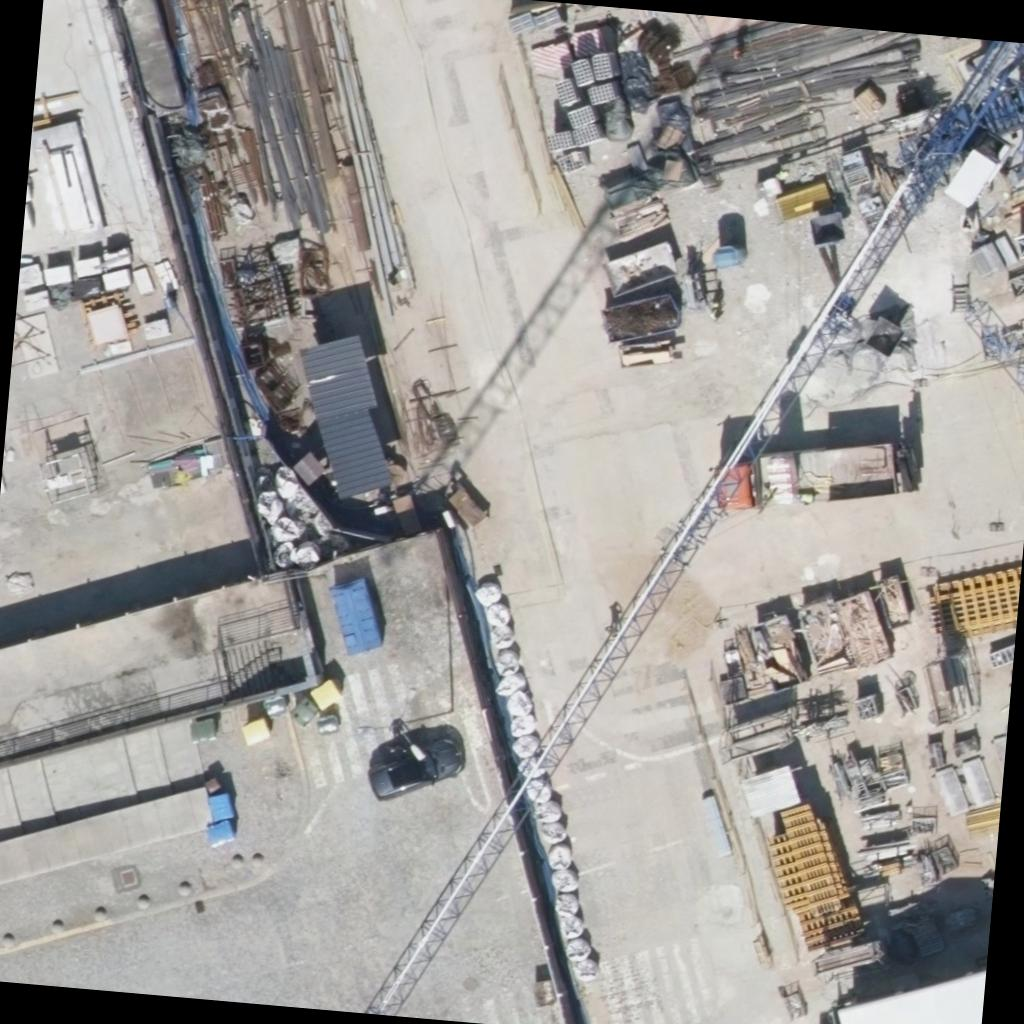kontener: (288, 331, 402, 500)
samochod_osobowy: (366, 718, 468, 806)
